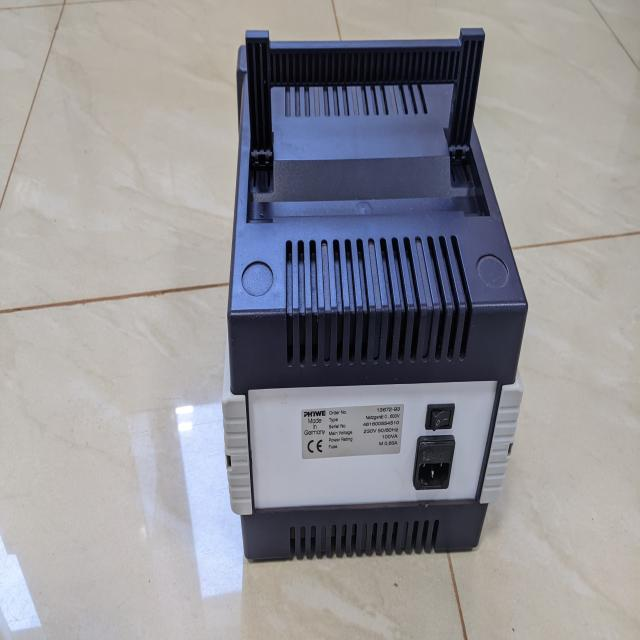Netzgerat Universal Power Supply: (210, 13, 538, 567)
